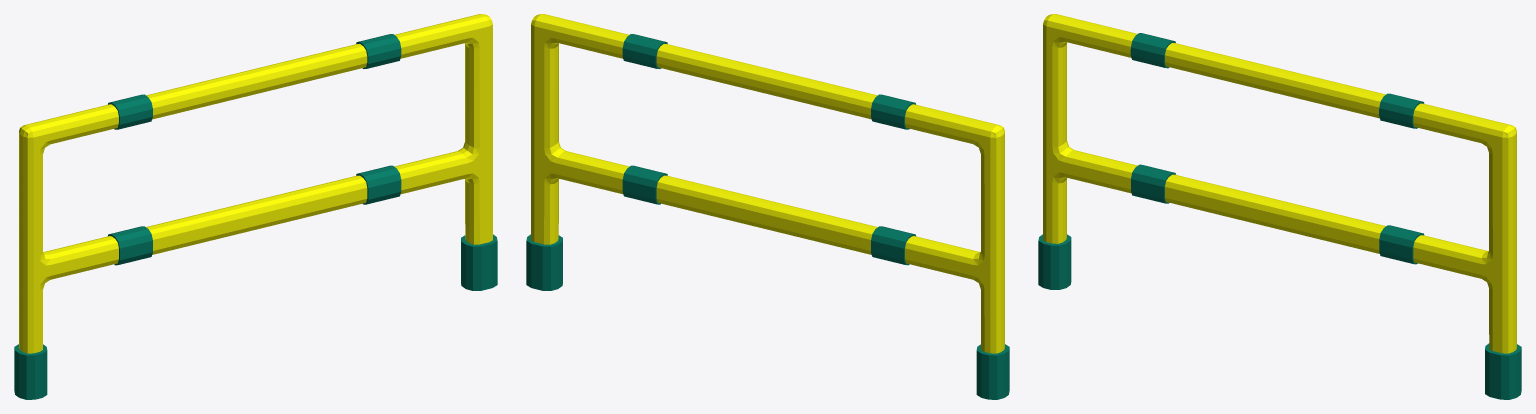
The model's file is SM_rambarde.fbx.
3 views of the same model, side by side, from view 1: azimuth 30°, elevation 25°; view 2: azimuth 150°, elevation 25°; view 3: azimuth 330°, elevation 25° (orthographic).
Visible parts, largest first — view 1: SM_rambarde; view 2: SM_rambarde; view 3: SM_rambarde.
Boxes of the visible parts, x1,y1,x2,y2 form: SM_rambarde: [14, 14, 497, 399]; SM_rambarde: [526, 14, 1009, 399]; SM_rambarde: [1038, 14, 1521, 399].
Size of the model in its own units: 1.13 by 0.607 by 0.0647.
